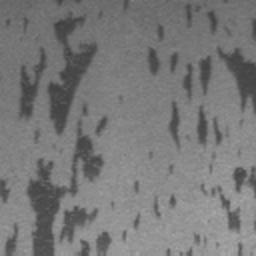Red iron sheet: (0, 0, 179, 256), (143, 0, 256, 256), (133, 180, 140, 196), (122, 0, 131, 12), (116, 92, 124, 105), (143, 151, 154, 160), (168, 164, 174, 174)
